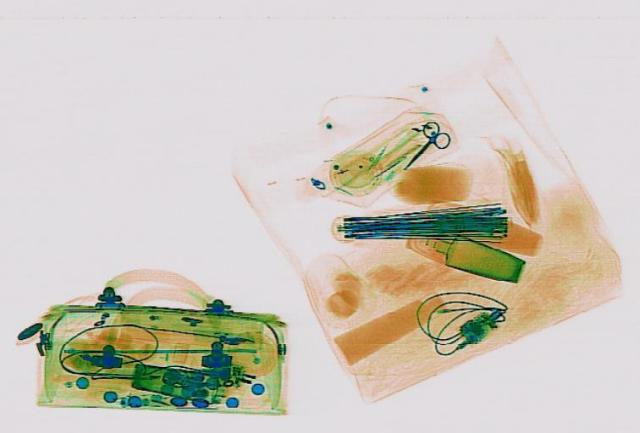Scissors: (386, 118, 460, 174)
